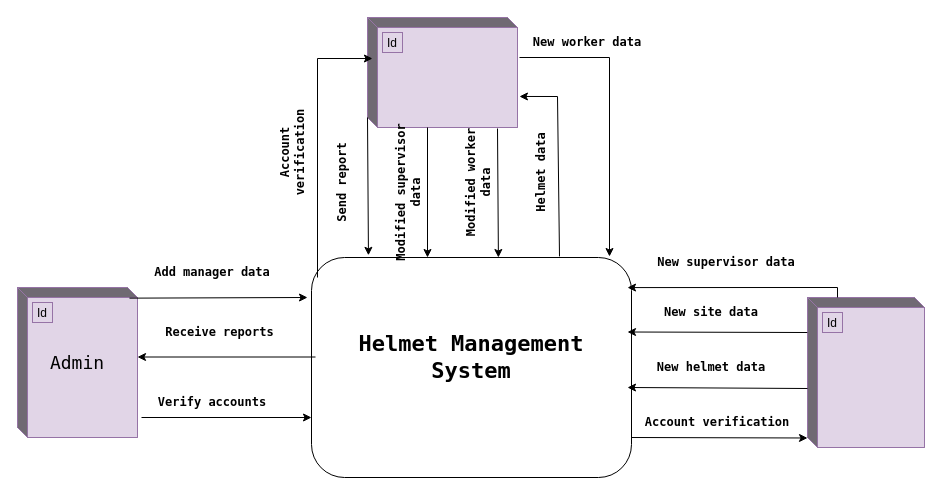
This 942x495 diagram has some shape labels left out. Here are the shapes that lost their labels. From the top down, the centre of each, then its label:
point 442,72: Supervisor
point 865,372: Manager
